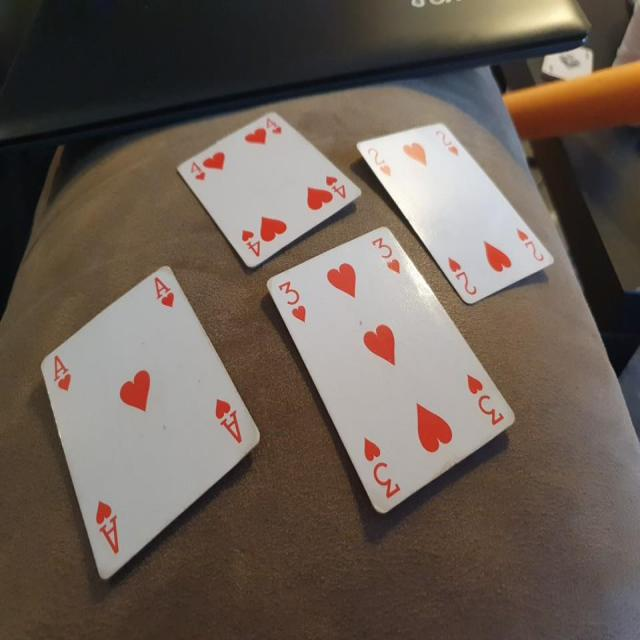2 Hearts: (354, 112, 554, 303)
3 Hearts: (260, 222, 516, 513)
4 Hearts: (176, 110, 364, 278)
A Hearts: (35, 260, 266, 594)
